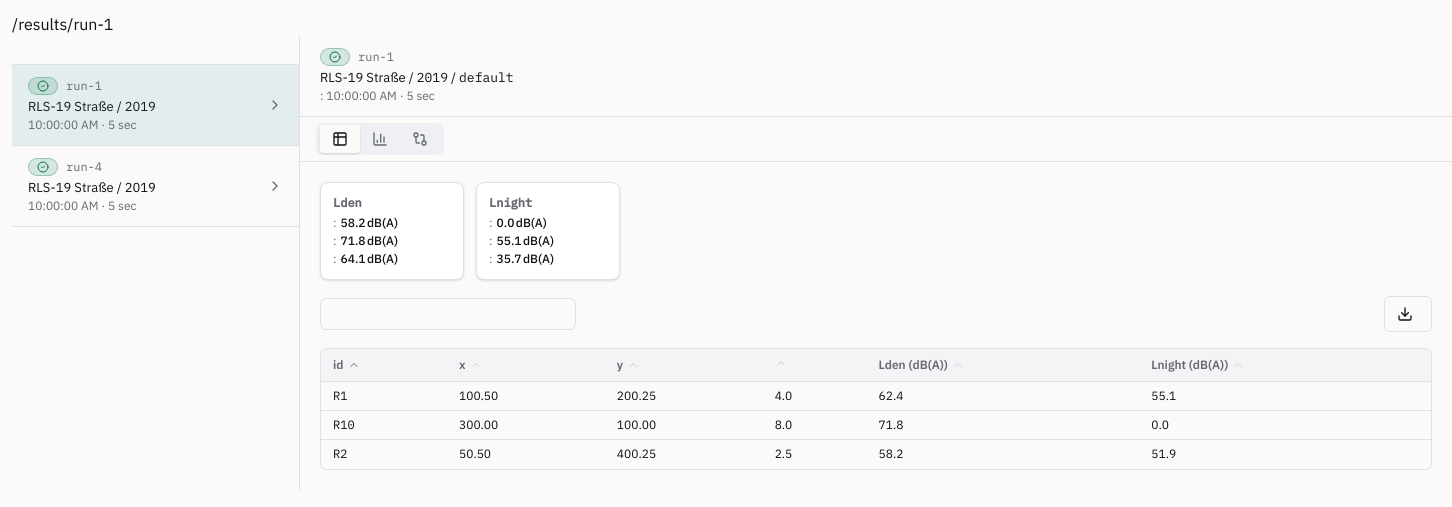
ResultsPage shell › switches the detail pane when another run is selected
The image size is (1452, 507).
Click the link "run-4 RLS-19 Straße / 2019 10:00:00 AM · 5 sec".
click(156, 186)  # box [12,146,299,227]
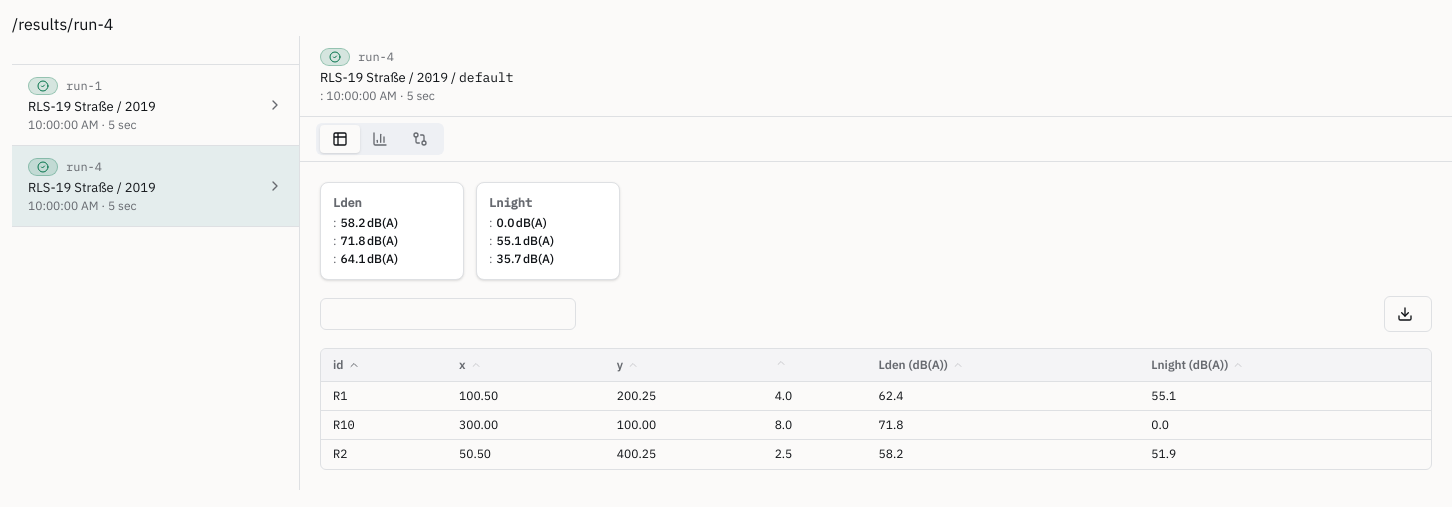
Expected: the text with test id "pathname" reads "/results/run-4", [12,14,113,34]
